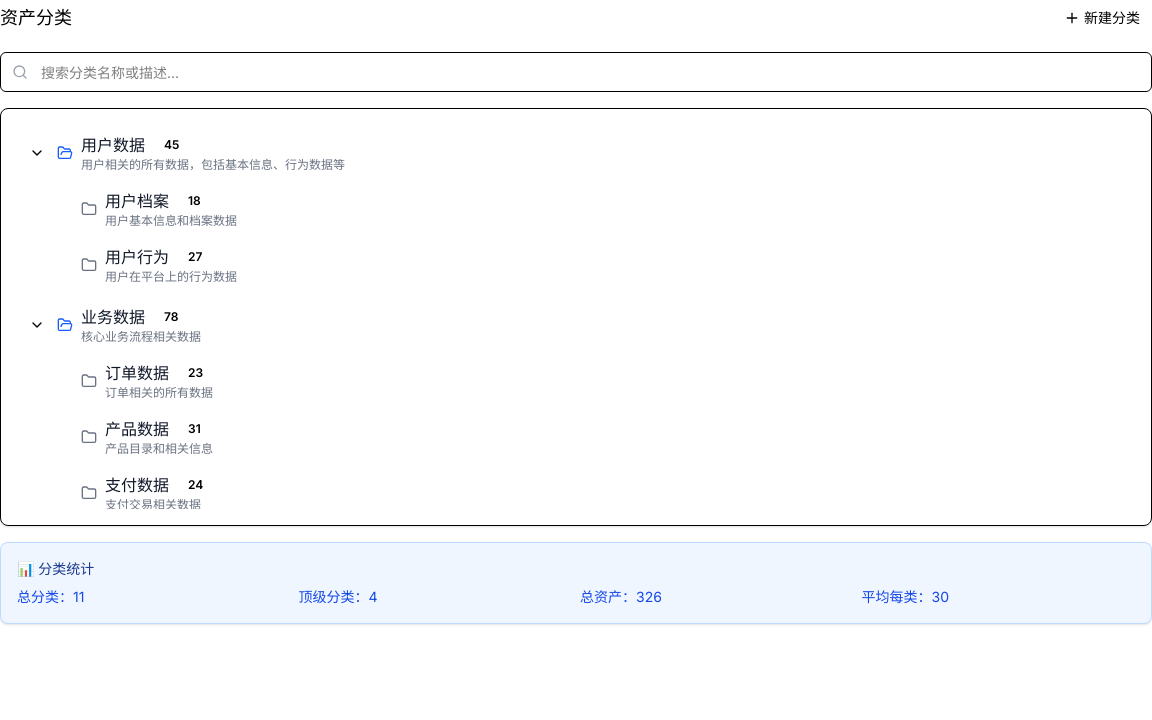
Test: CategoryManager - 新建分类功能 › 应该能够打开新建分类对话框
The image size is (1152, 720).
Click the button "新建分类".
click(1102, 18)  # box [1052,0,1151,36]
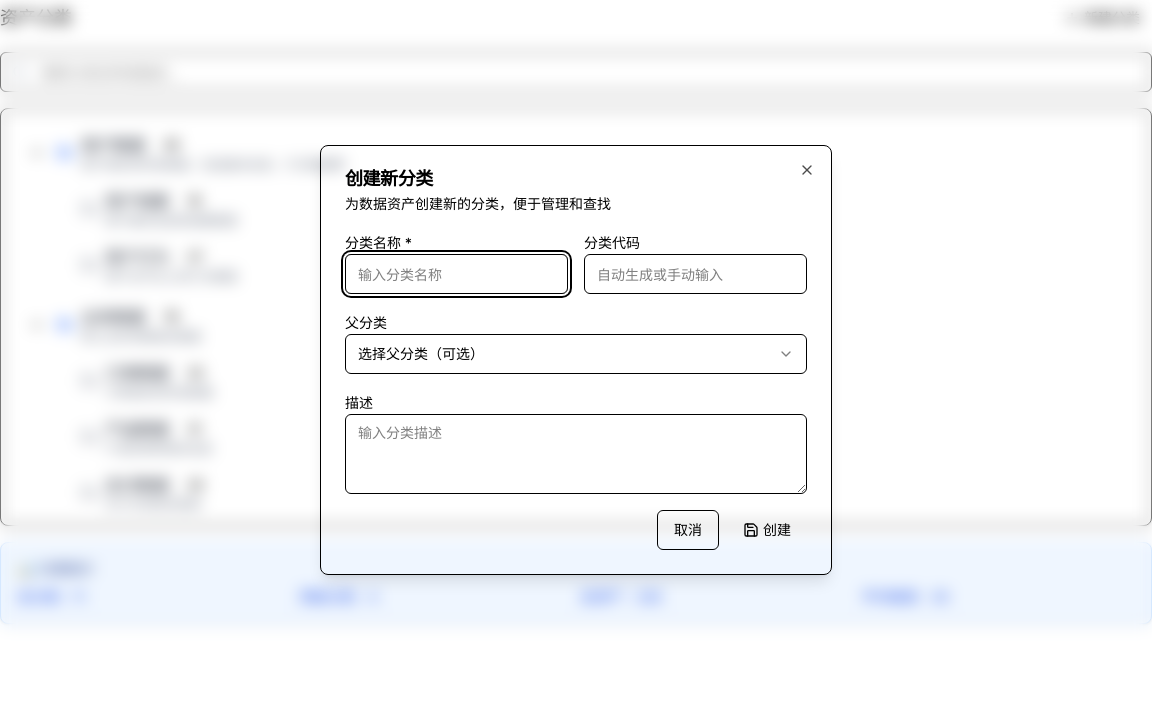
Result: the heading "创建新分类" is shown at [345,168,433,189]
Result: the text "为数据资产创建新的分类，便于管理和查找" is shown at [345,195,611,212]
